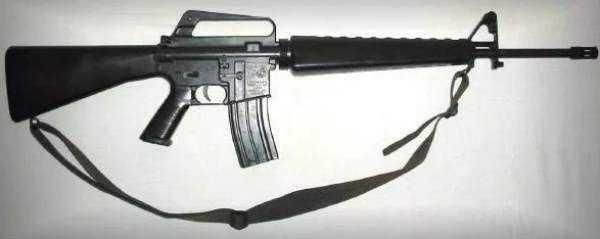heavyweapon: (0, 5, 593, 169)
